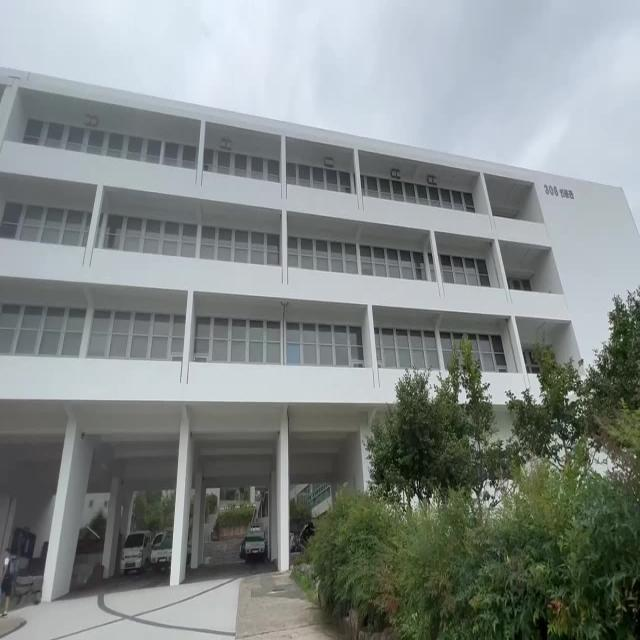building: (15, 69, 374, 440)
